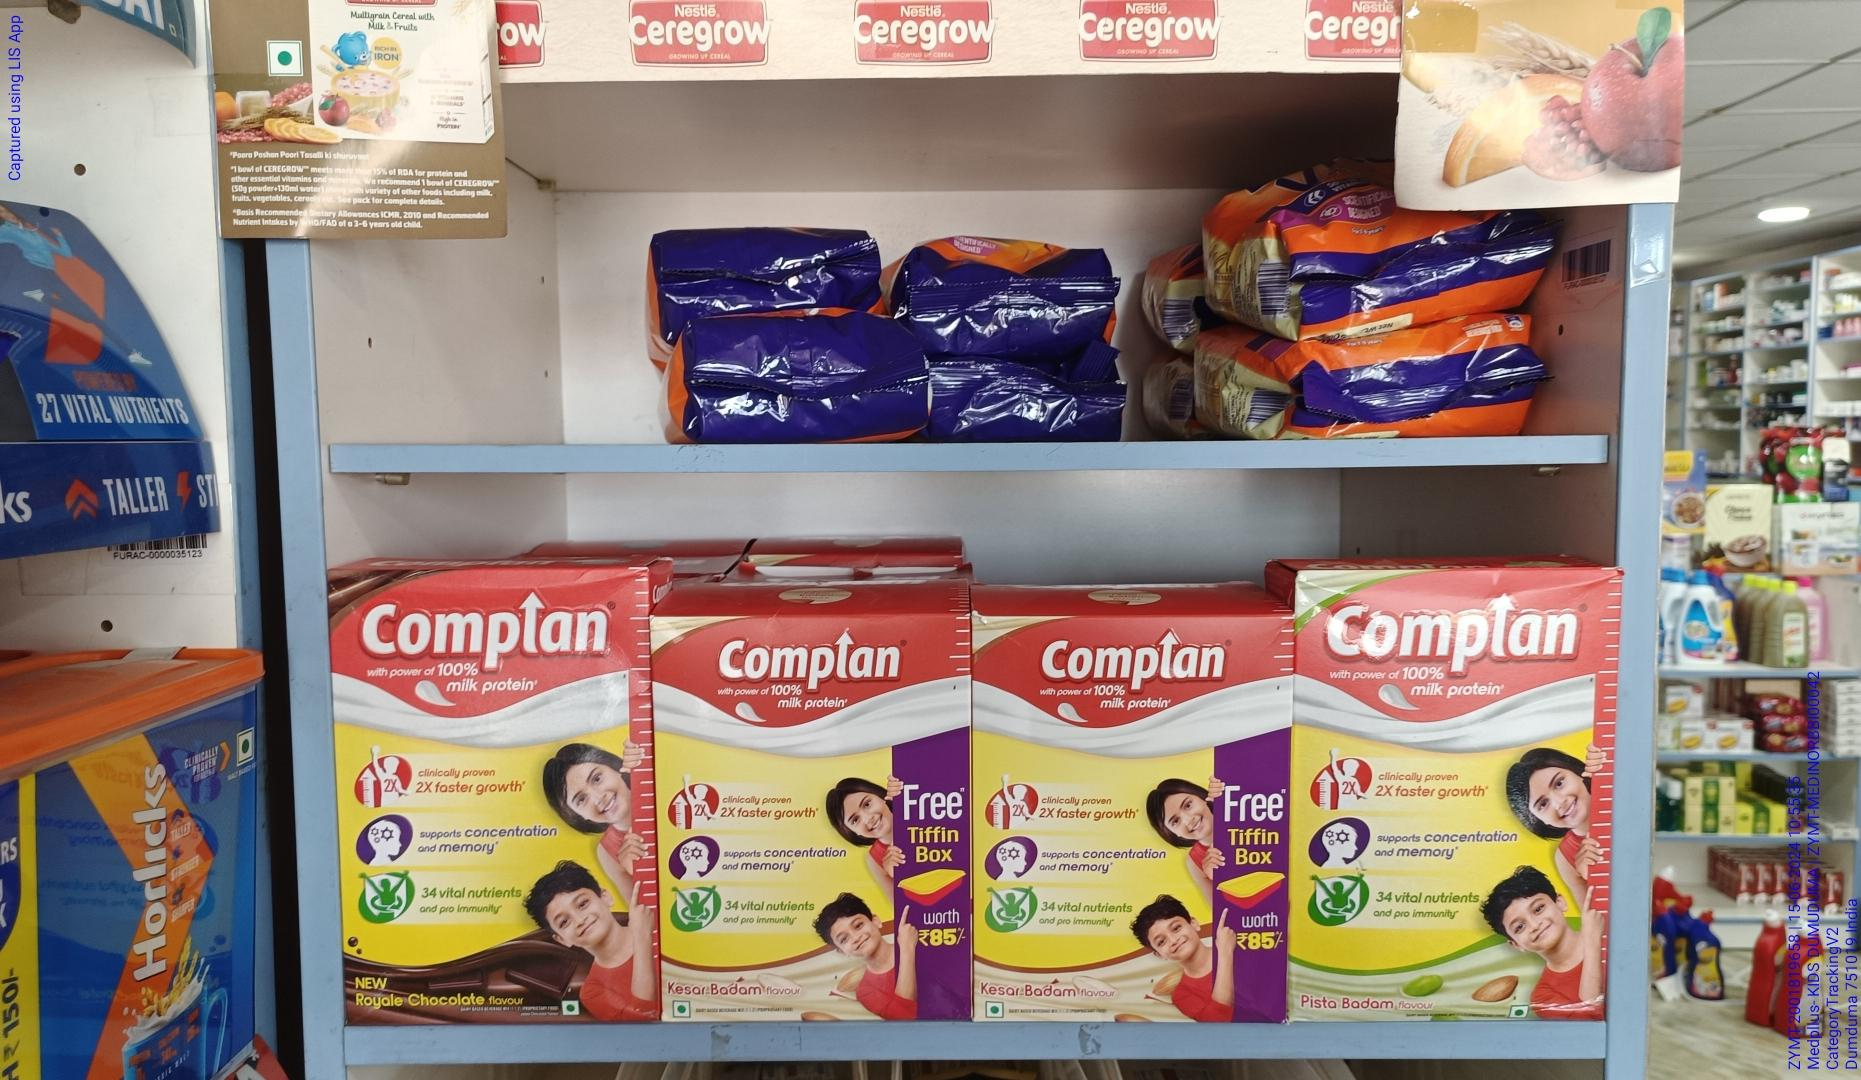COMPLAN_CHOCOLATE_500_GMS_PACK: (332, 572, 657, 1029)
COMPLAN_KESAR_BADAM_500_GMS_PACK: (668, 617, 966, 1035), (978, 617, 1283, 1026)
COMPLAN_PISTA_BADAM_500_GMS_PACK: (1290, 570, 1600, 1014)
HORLICK_MALT_1_KG_CONTAINER: (0, 649, 258, 1080)
